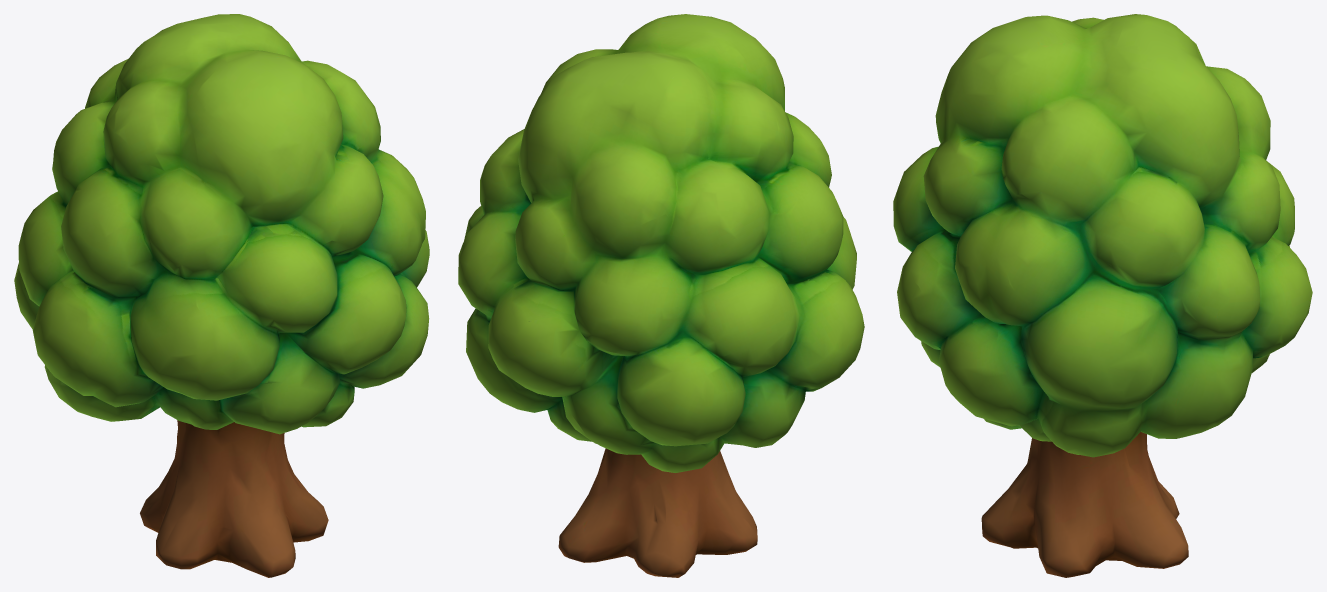
Rendered from stylized tree 3d model normal tree.glb.
3 renders of one model, left to right at view 1: azimuth 30°, elevation 25°; view 2: azimuth 150°, elevation 25°; view 3: azimuth 270°, elevation 25°, orthographic. The views are drawn at different scales.
Visible parts, largest first — view 1: tripo_node_581d63cb-ed55-42f8-a1c0-c8d19730f8f5; view 2: tripo_node_581d63cb-ed55-42f8-a1c0-c8d19730f8f5; view 3: tripo_node_581d63cb-ed55-42f8-a1c0-c8d19730f8f5.
Boxes of the visible parts, <box> form: tripo_node_581d63cb-ed55-42f8-a1c0-c8d19730f8f5: <box>14,14,429,577</box>; tripo_node_581d63cb-ed55-42f8-a1c0-c8d19730f8f5: <box>458,14,864,577</box>; tripo_node_581d63cb-ed55-42f8-a1c0-c8d19730f8f5: <box>893,14,1312,577</box>.
Bounding box in the file's own units: 0.7905 × 1 × 0.7392.
1 material, 1 textured.
